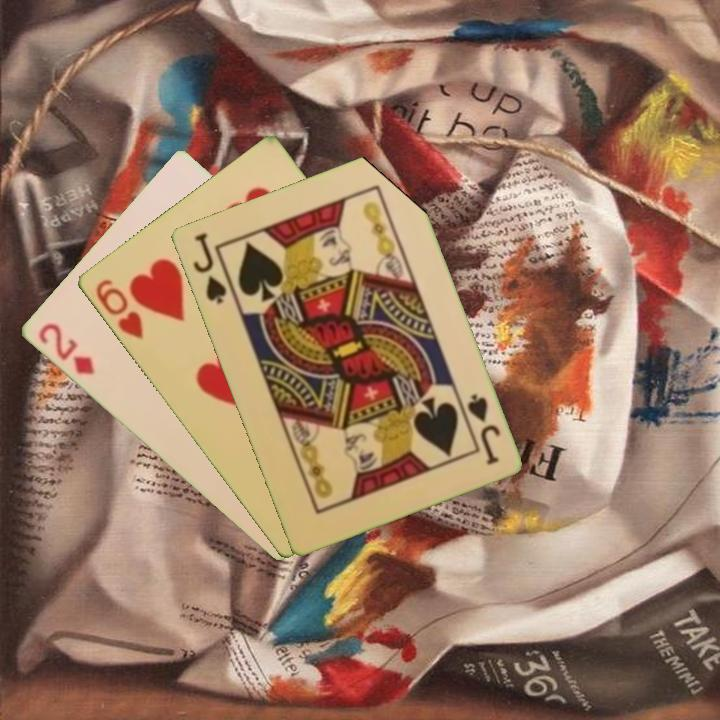2d: (34, 319, 97, 378)
6h: (91, 275, 146, 342)
Js: (189, 228, 229, 307), (463, 390, 503, 468)
